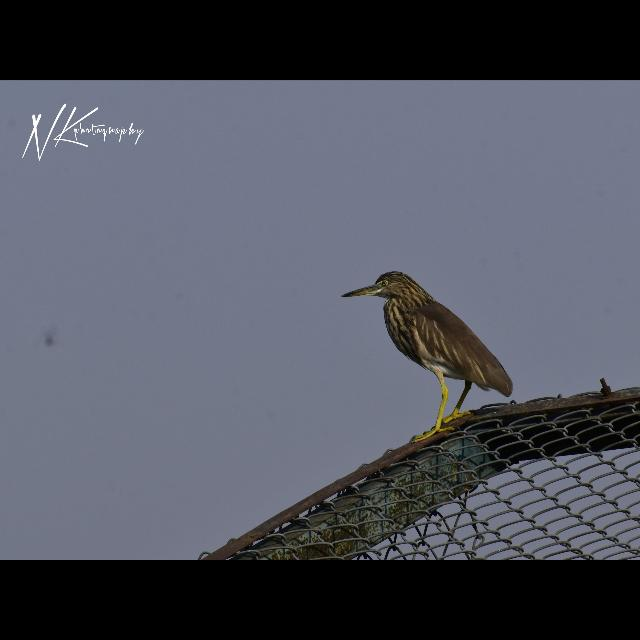heron: (339, 269, 513, 439)
